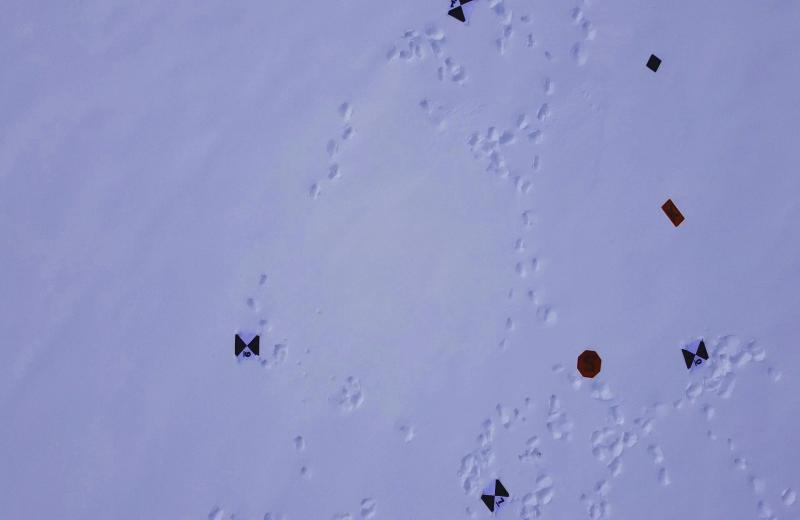Octagon: (574, 346, 605, 380)
Rectangle: (661, 191, 686, 230)
Square: (643, 52, 665, 75)
